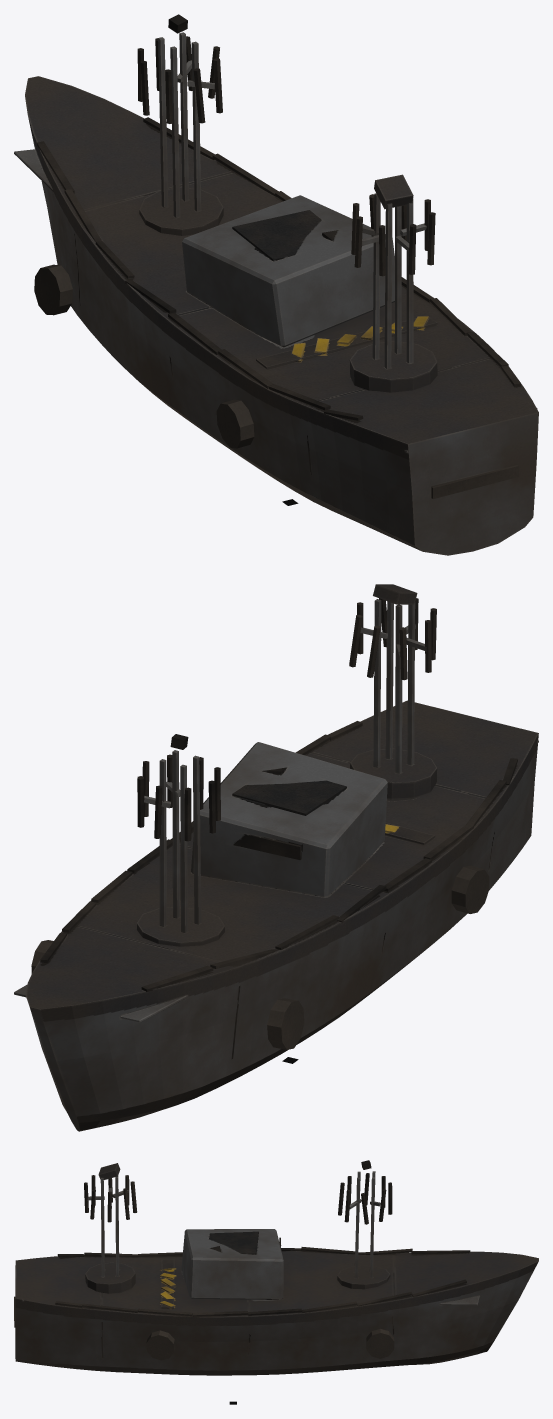
File: chs_siren_wreck.fbx
3 views of the same model, one above another, from view 1: azimuth 30°, elevation 25°; view 2: azimuth 150°, elevation 25°; view 3: azimuth 270°, elevation 25° (orthographic). The views are drawn at different scales.
Parts seen in each view (by area): view 1: base_bar, turret2_bar, turret1_bar; view 2: base_bar, turret2_bar, turret1_bar; view 3: base_bar, turret2_bar, turret1_bar.
Boxes of the visible parts, bbox=[...] form: base_bar: bbox=[14, 76, 538, 555]; turret2_bar: bbox=[349, 174, 437, 392]; turret1_bar: bbox=[137, 14, 223, 235]; base_bar: bbox=[14, 700, 538, 1131]; turret2_bar: bbox=[349, 584, 437, 799]; turret1_bar: bbox=[137, 734, 224, 946]; base_bar: bbox=[14, 1229, 538, 1375]; turret2_bar: bbox=[84, 1163, 137, 1293]; turret1_bar: bbox=[337, 1160, 392, 1289].
Bounding box in the file's own units: 479 × 730 × 1437.
2 materials, 2 textured.
